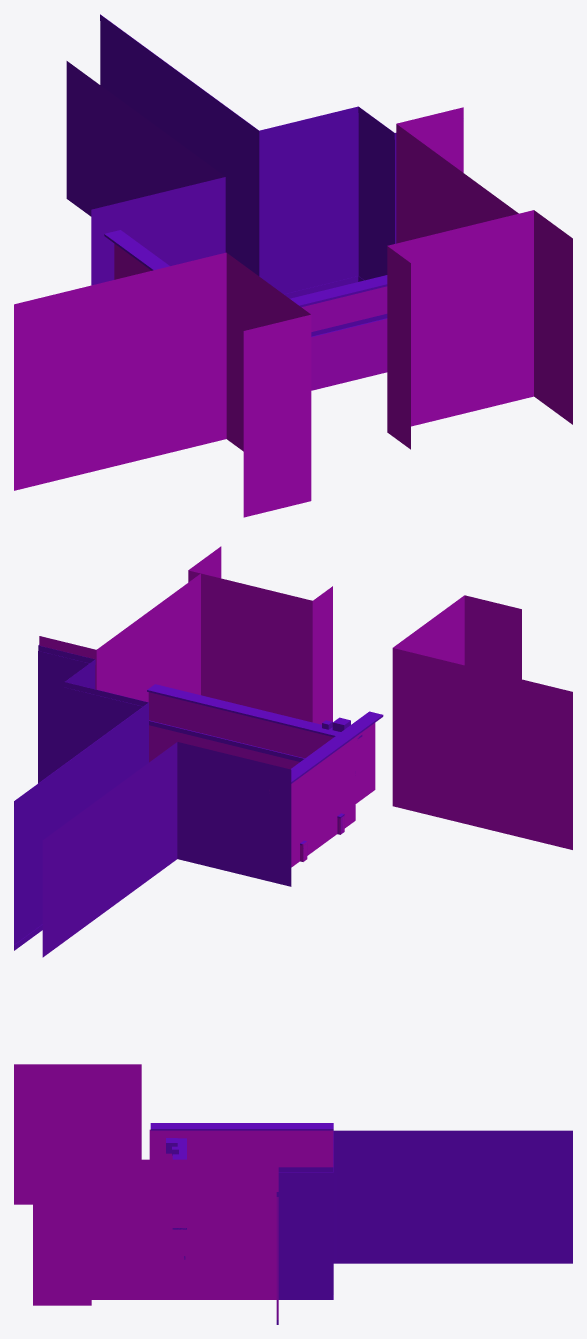
File: expurban_surroundingbuildings.gltf
3 renders of one model, top to bottom at view 1: azimuth 30°, elevation 25°; view 2: azimuth 150°, elevation 25°; view 3: azimuth 270°, elevation 25°, orthographic. The views are drawn at different scales.
Visible parts, largest first — view 1: Plane.044; view 2: Plane.044; view 3: Plane.044.
Part boxes in pixels (bbox=[...]): Plane.044: bbox=[14, 14, 572, 517]; Plane.044: bbox=[14, 546, 572, 957]; Plane.044: bbox=[14, 1064, 572, 1324].
Size of the model in its own units: 65.55 by 21.67 by 78.08.
